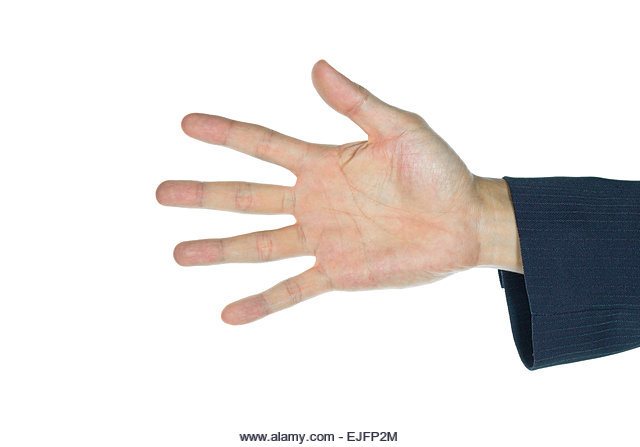non-diseased: (160, 69, 485, 352)
